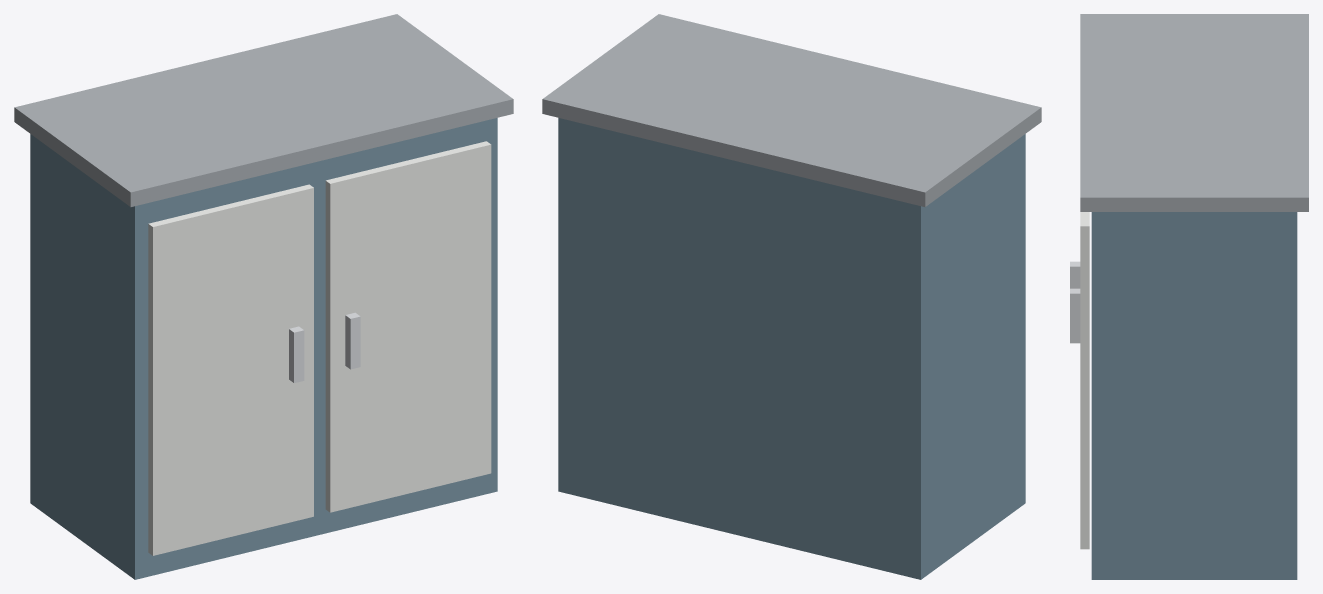
File: road-car-showroom-lineup-document-cabinet-1c0ca970__15162.glb
3 renders of one model, left to right at view 1: azimuth 30°, elevation 25°; view 2: azimuth 150°, elevation 25°; view 3: azimuth 270°, elevation 25°, orthographic.
Parts seen in each view (by area): view 1: document-cabinet; view 2: document-cabinet; view 3: document-cabinet.
Boxes of the visible parts, <box> form: document-cabinet: <box>14,14,513,579</box>; document-cabinet: <box>542,14,1041,579</box>; document-cabinet: <box>1070,14,1308,579</box>.
Bounding box in the file's own units: 0.95 × 0.935 × 0.5225.
